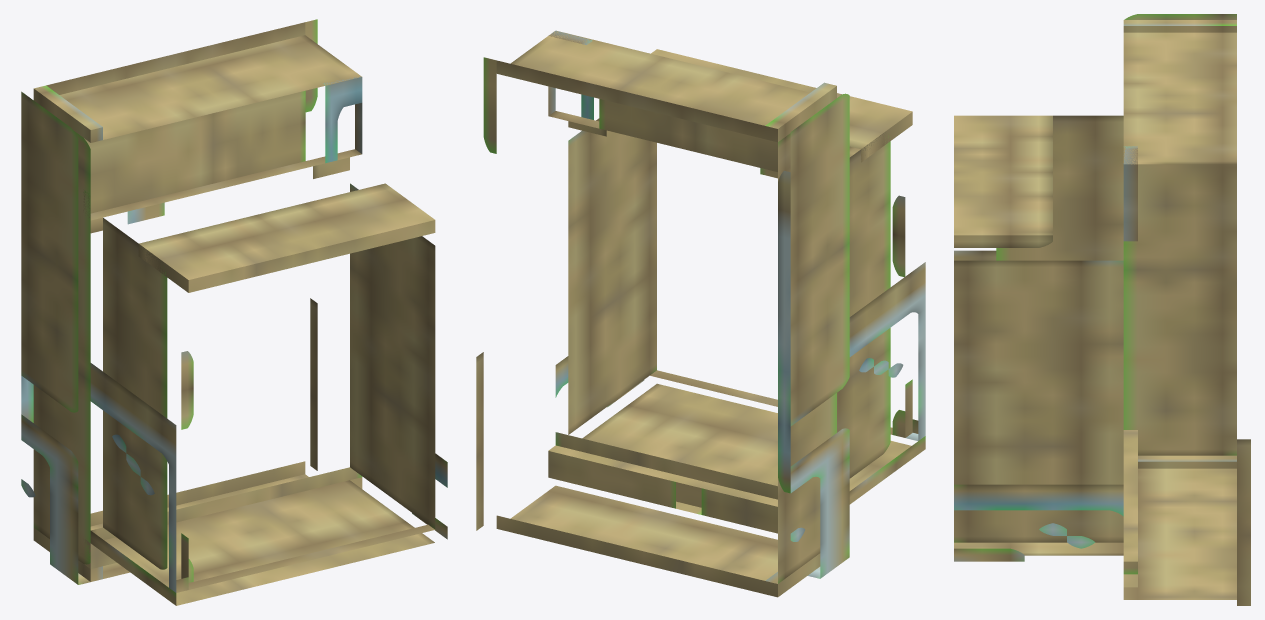
The model's file is wood_chassis_big.obj.
The picture shows the model from 3 angles, left to right: view 1: azimuth 30°, elevation 25°; view 2: azimuth 150°, elevation 25°; view 3: azimuth 270°, elevation 25°; orthographic projection. The views are drawn at different scales.
Visible parts, largest first — view 1: Import.006; view 2: Import.006; view 3: Import.006.
Part boxes in pixels (x1,y1,x2,y2): Import.006: (21, 19, 447, 605); Import.006: (476, 30, 925, 597); Import.006: (954, 14, 1250, 605).
Size of the model in its own units: 1.5 by 2.19 by 1.31.
